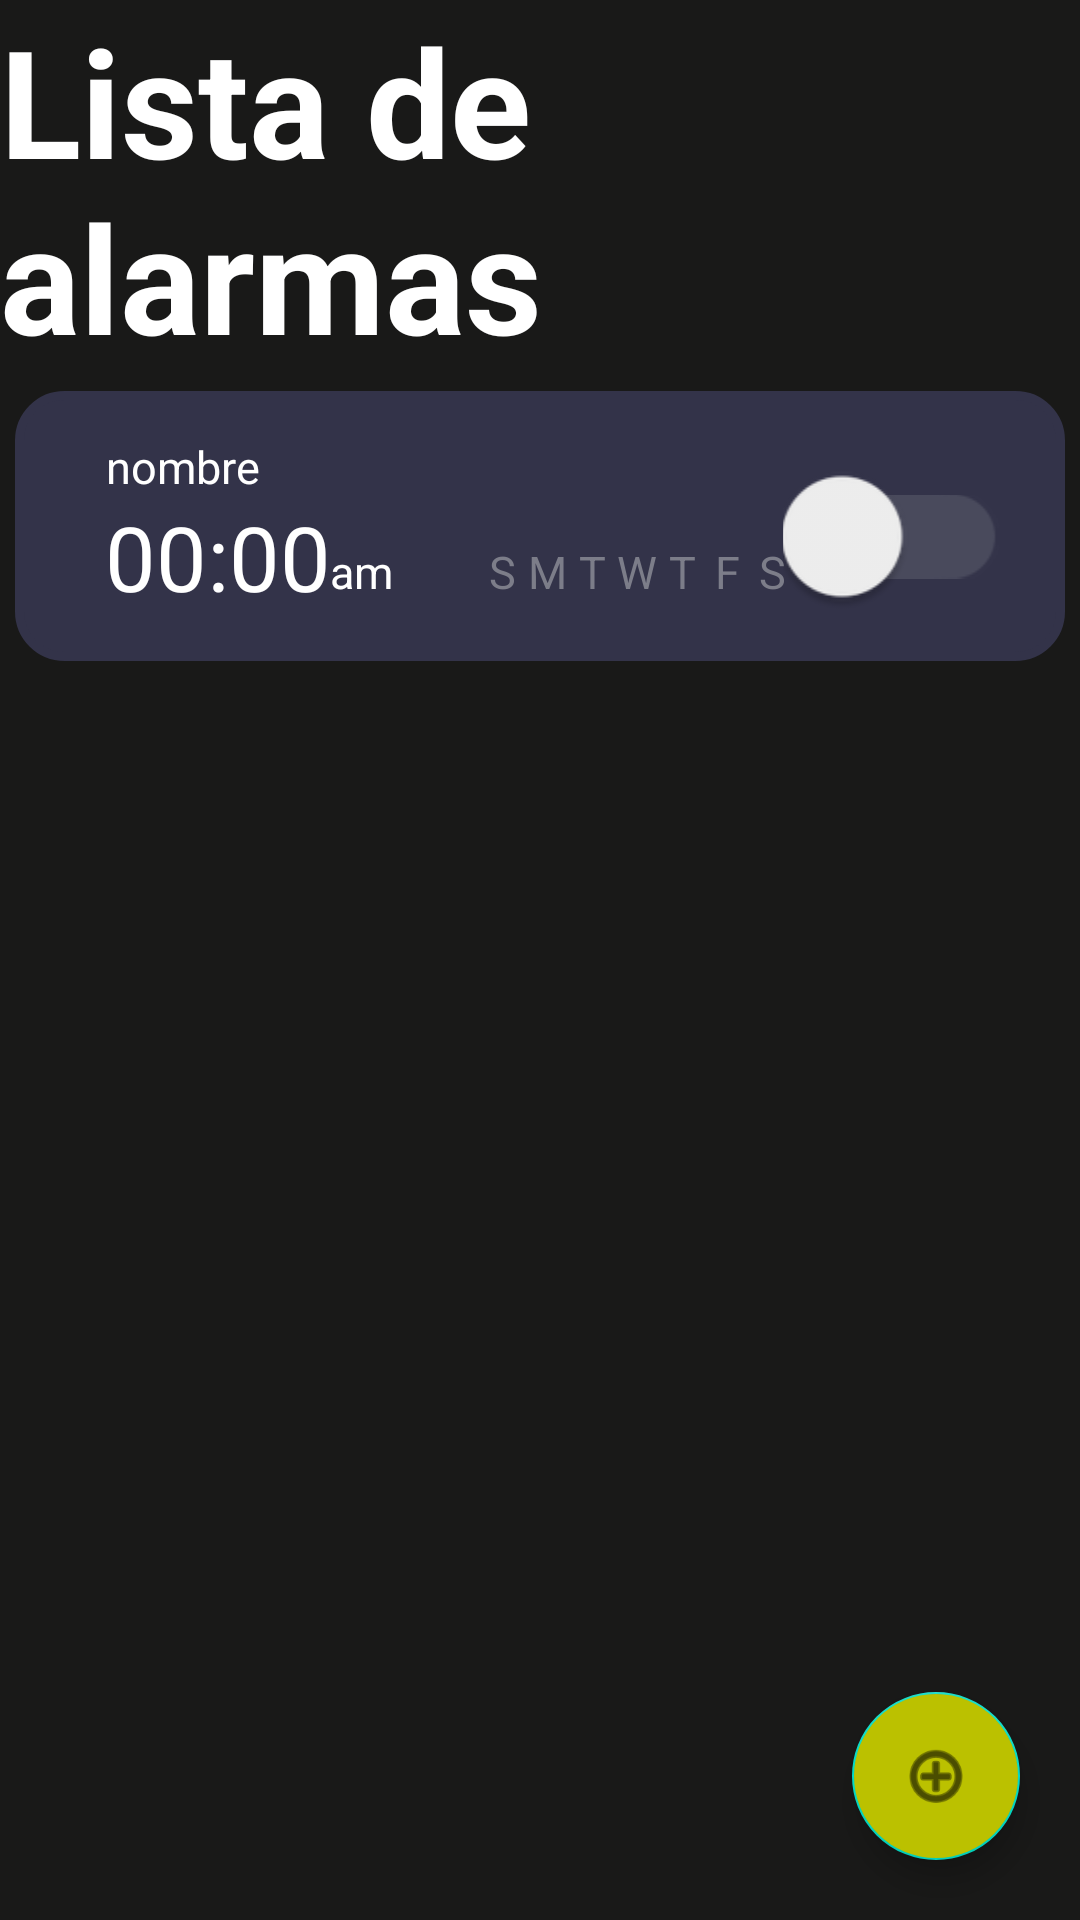

Where icons sit on this 1080px×1920px app screen, as (x1, y1, x2, y2):
Add new alarm: (852, 1692, 1020, 1860)
